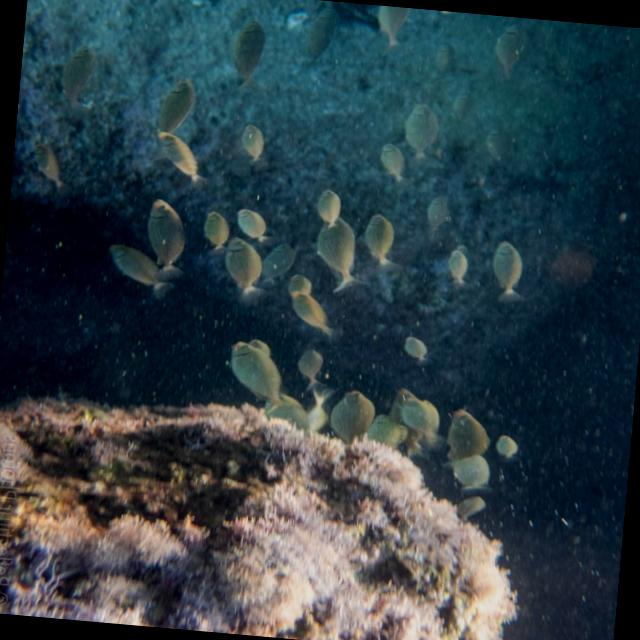Sokar Baligi: (216, 332, 307, 421), (136, 190, 202, 285), (218, 15, 274, 97), (396, 96, 455, 172), (353, 208, 412, 280), (481, 236, 533, 306)
